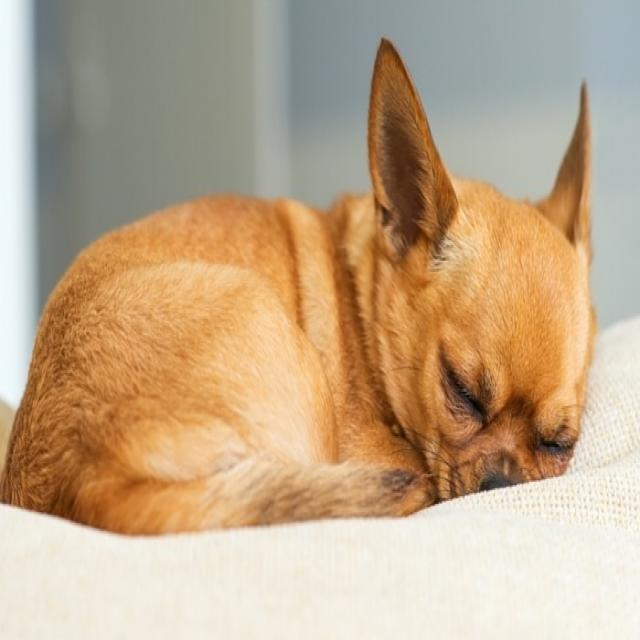laying down: (0, 33, 600, 542)
